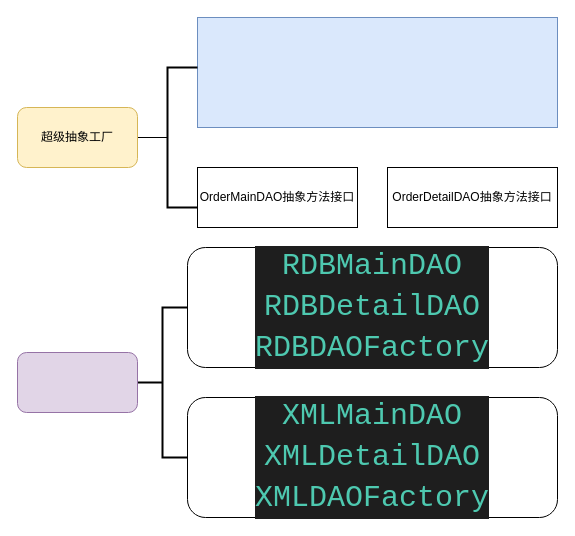
Some shapes in this 575 by 536 pixel diagram are drawn without their labels. Here are the shapes that lost their labels. From the top down, the centre of each, then its label:
At [377,72]: "DAO抽象工厂接口".
At [77,382]: "继承实现创建工厂类".
